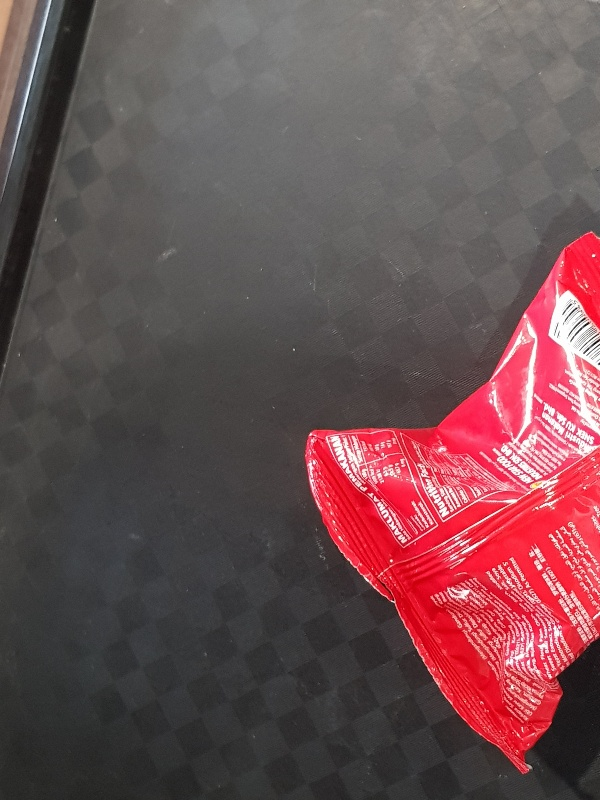ShoyueMi Spicy Flavoured Snacks: (302, 228, 600, 776)
